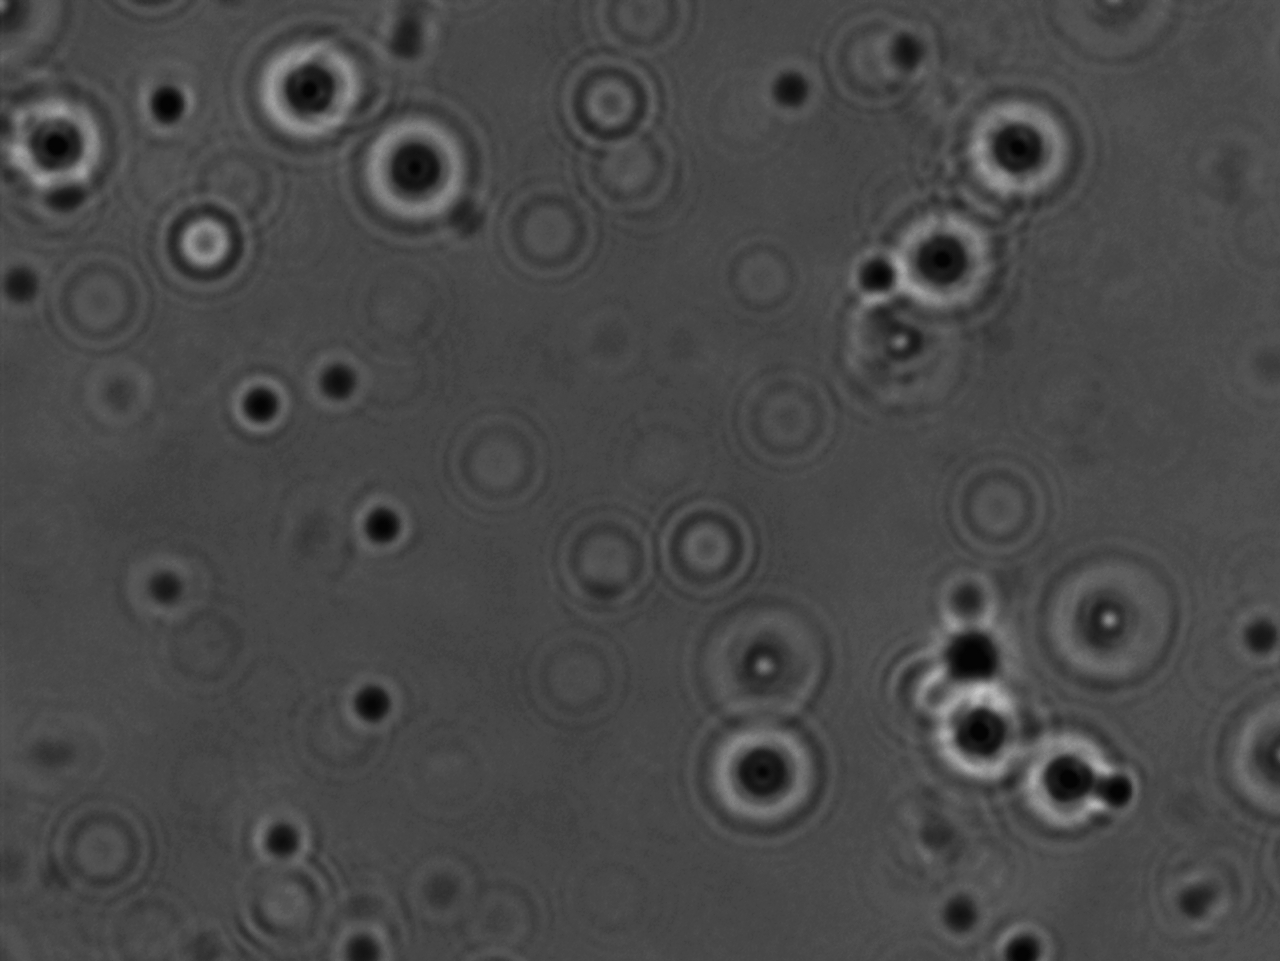depth:-16: (676, 706, 855, 847), (941, 70, 1087, 217), (337, 106, 488, 238), (876, 189, 1016, 313), (1014, 728, 1137, 856), (916, 683, 1045, 806), (243, 22, 362, 138)
